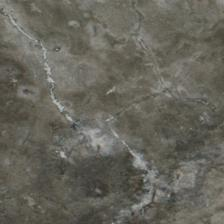Crack: (115, 22, 211, 118), (110, 125, 206, 215), (9, 15, 83, 126)
